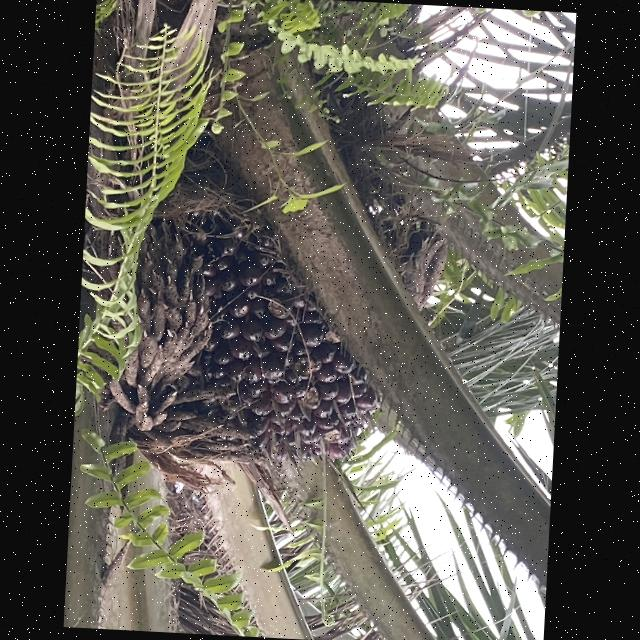Unripe: (198, 210, 380, 462)
